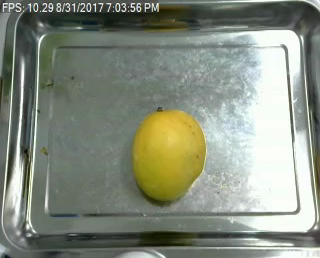Mango: (126, 110, 209, 208)
